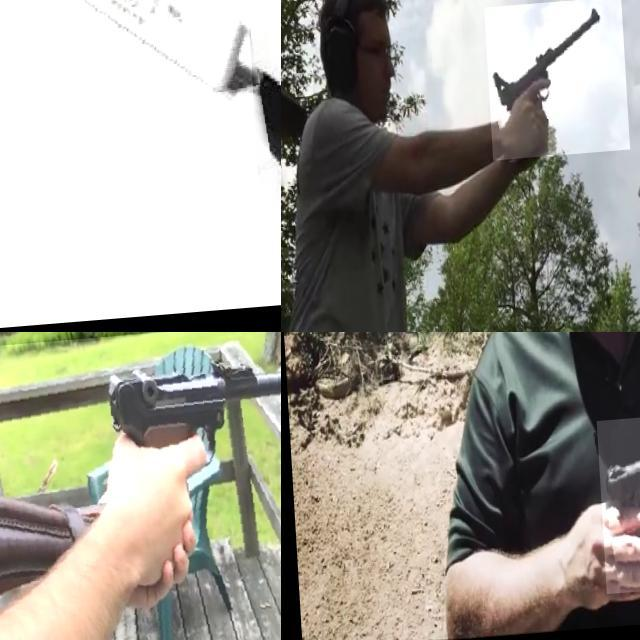-: (0, 0, 252, 265)
gun-knife-thesis - v11 Yolov5 augmented: (0, 332, 281, 640), (482, 6, 626, 168), (591, 416, 640, 599)
